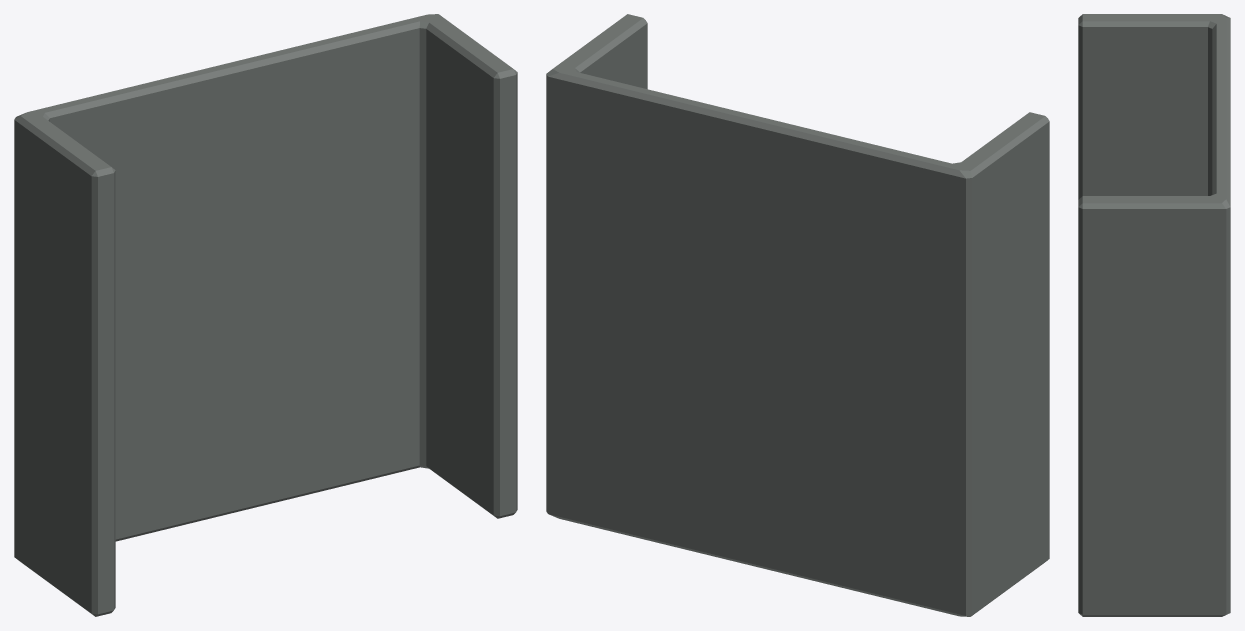
Rendered from Shelf_01.fbx.
3 renders of one model, left to right at view 1: azimuth 30°, elevation 25°; view 2: azimuth 150°, elevation 25°; view 3: azimuth 270°, elevation 25°, orthographic. The views are drawn at different scales.
Parts seen in each view (by area): view 1: Shelf_01; view 2: Shelf_01; view 3: Shelf_01.
Boxes of the visible parts, x1,y1,x2,y2 form: Shelf_01: [14, 14, 517, 616]; Shelf_01: [546, 14, 1049, 616]; Shelf_01: [1078, 14, 1230, 616].
Bounding box in the file's own units: 300 × 300 × 100.
